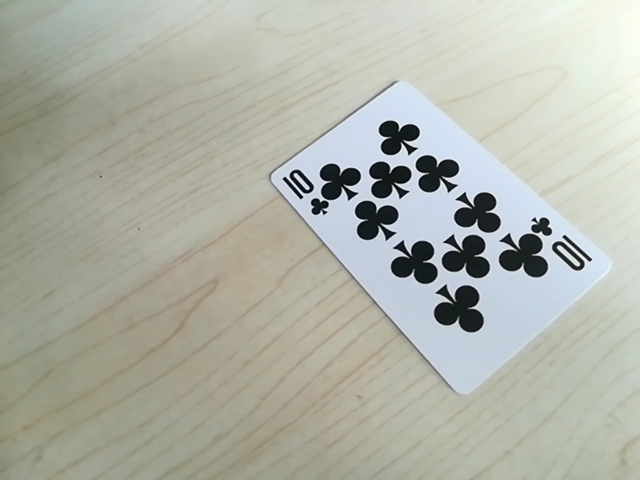mh 10: (531, 211, 595, 273), (280, 168, 328, 212)
